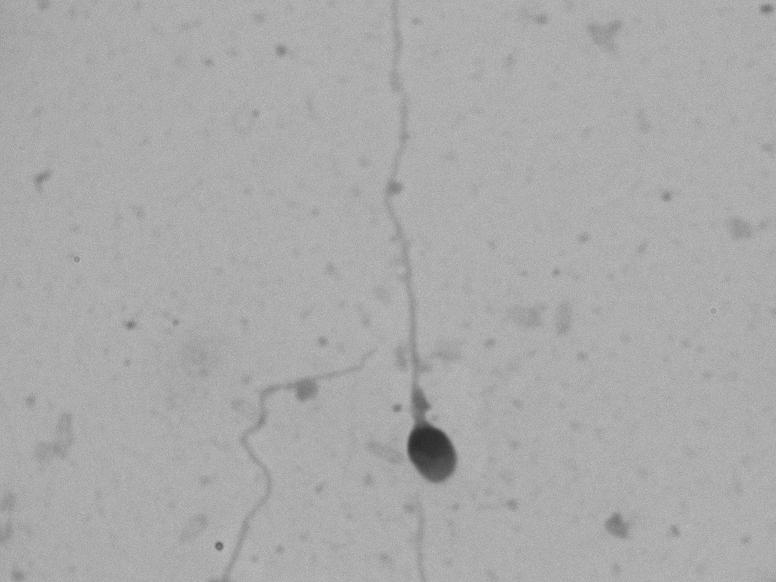Abnormal: (326, 2, 517, 502)
